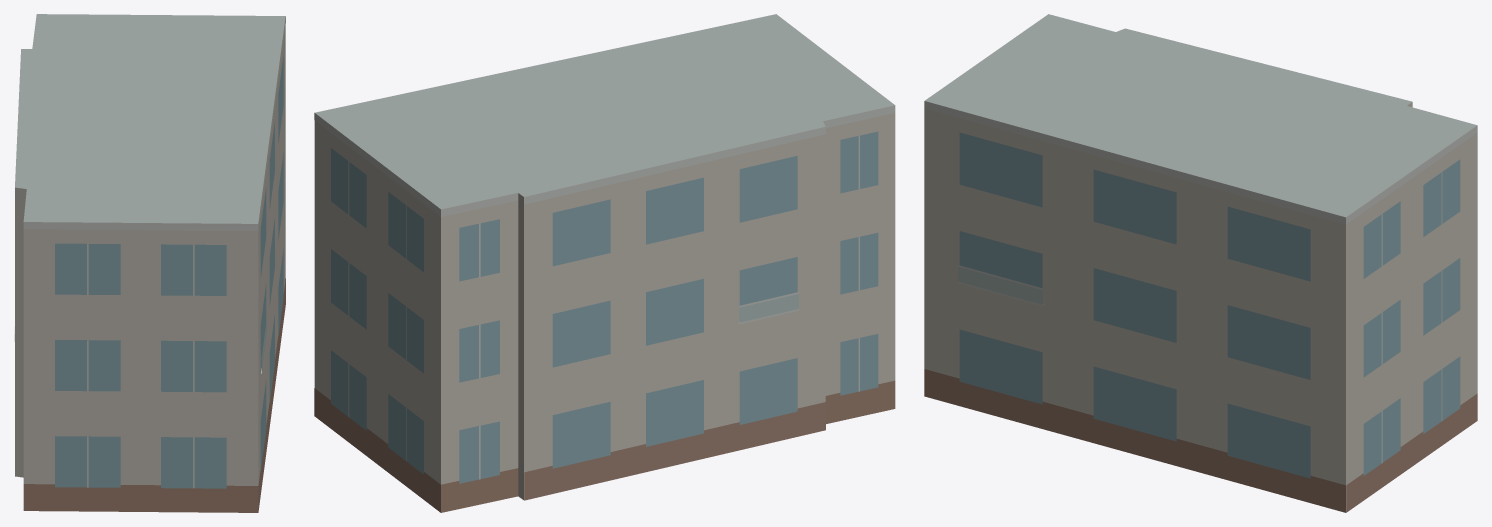
Rendered from survey-upis-32889936.glb.
3 renders of one model, left to right at view 1: azimuth 30°, elevation 25°; view 2: azimuth 150°, elevation 25°; view 3: azimuth 270°, elevation 25°, orthographic. The views are drawn at different scales.
Visible parts, largest first — view 1: survey-upis-32889936.tmp; view 2: survey-upis-32889936.tmp; view 3: survey-upis-32889936.tmp.
Boxes of the visible parts, <box> form: survey-upis-32889936.tmp: <box>14,14,285,512</box>; survey-upis-32889936.tmp: <box>314,14,895,512</box>; survey-upis-32889936.tmp: <box>924,14,1477,512</box>.
Size of the model in its own units: 14.48 by 9.8 by 16.64.
